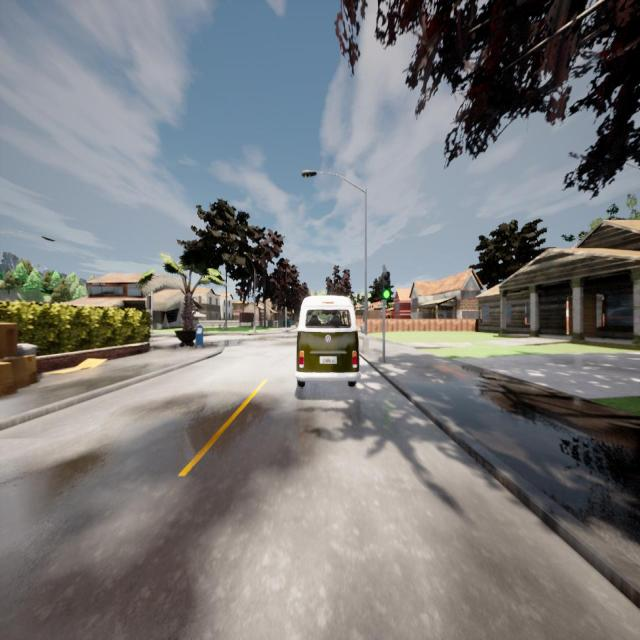Vehicle: (295, 295, 361, 386)
traffic_light: (382, 272, 391, 300)
